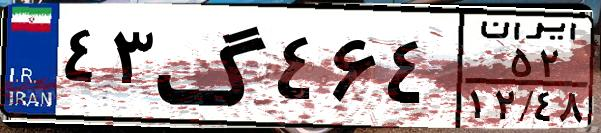1: (470, 70, 495, 125)
2: (537, 27, 568, 80), (495, 70, 520, 125)
3: (110, 28, 156, 98)
4: (270, 28, 330, 110), (385, 28, 445, 110), (57, 26, 110, 100), (535, 70, 560, 125)
5: (508, 27, 537, 80)
6: (330, 28, 385, 110)
8: (560, 70, 590, 125)
گ: (156, 12, 270, 120)
